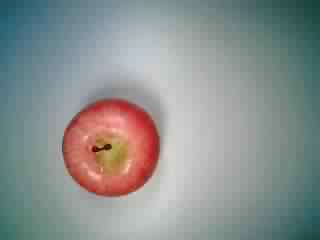apple: (61, 98, 165, 199)
